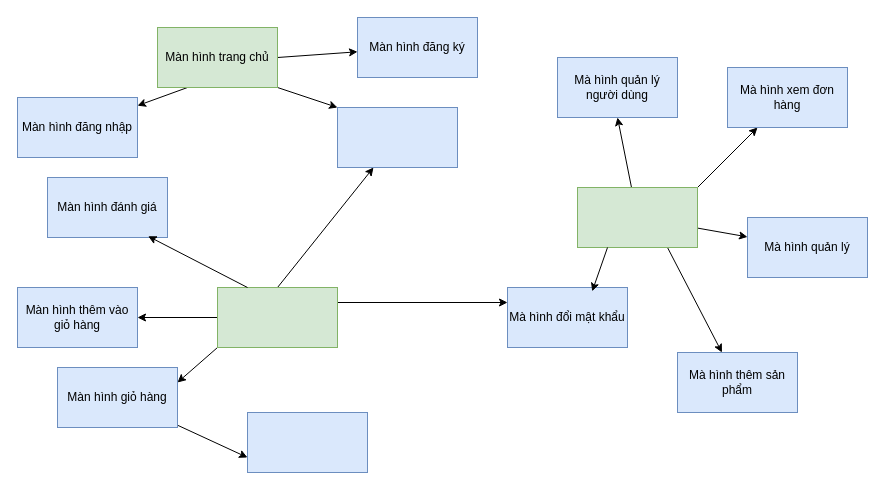
The diagram is 885 pixels wide and 490 high, and some of its shapes have lost their labels. The centre of each missing label's shape, as x and y in pixels:
Màn hình chính của admin: (x=637, y=217)
Màn hình chính của user: (x=277, y=317)
Màn hình thanh toán: (x=307, y=442)
Màn hình xem chi tiết sản phẩm: (x=397, y=137)
